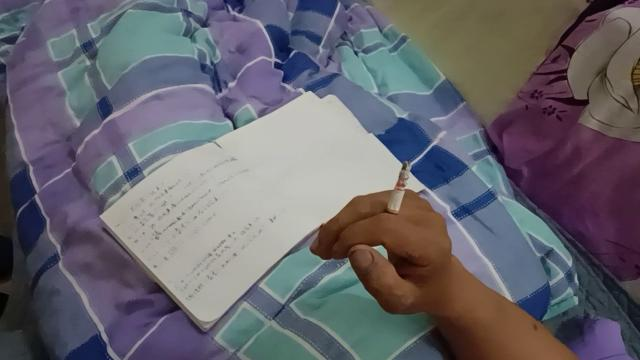Cigarette: (381, 162, 413, 226)
